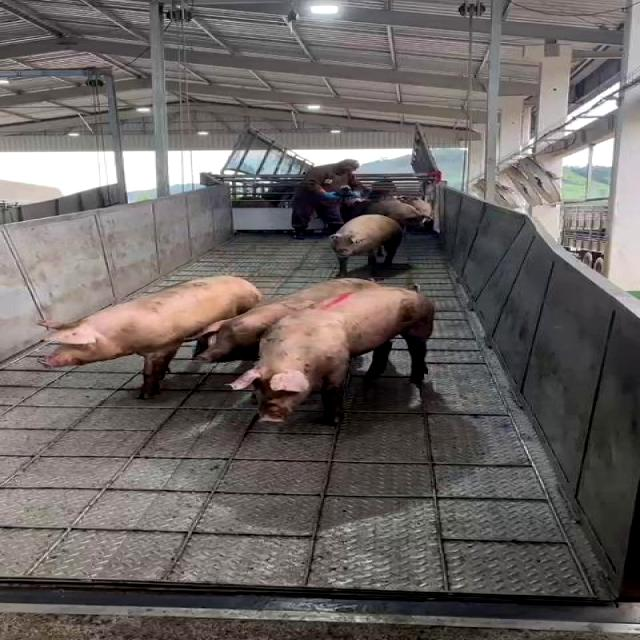pig: (38, 274, 263, 395), (230, 295, 432, 422), (186, 277, 381, 363), (328, 215, 395, 272)
